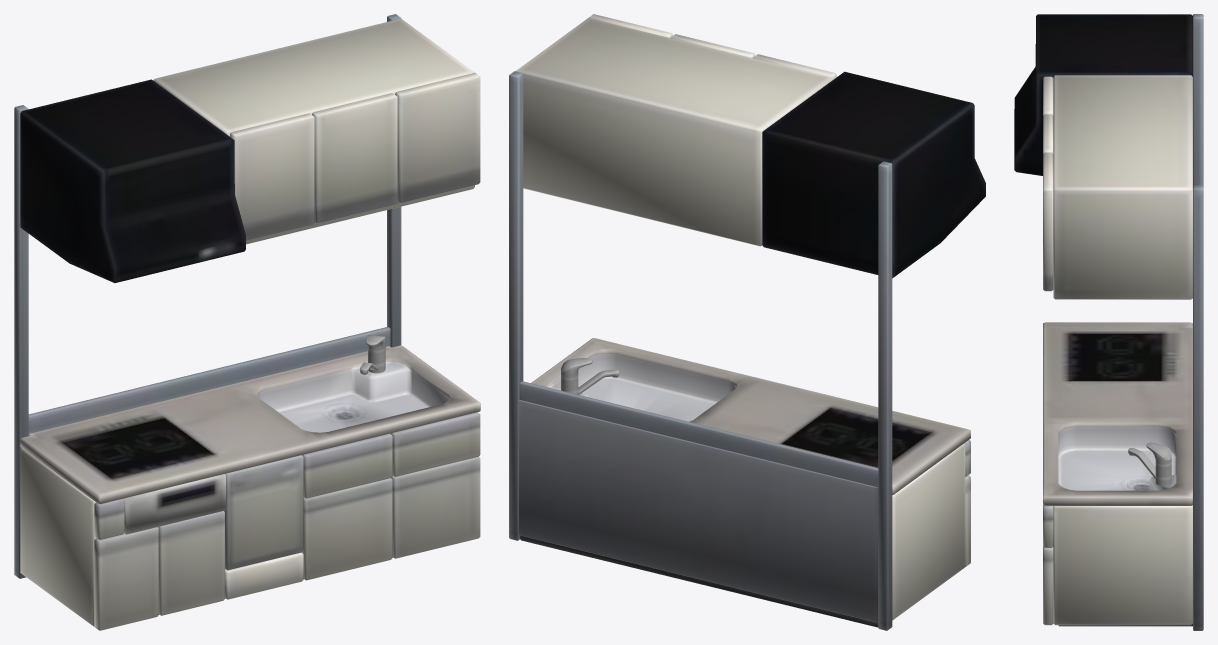
3 renders of one model, left to right at view 1: azimuth 30°, elevation 25°; view 2: azimuth 150°, elevation 25°; view 3: azimuth 270°, elevation 25°, orthographic. The views are drawn at different scales.
Size of the model in its own units: 19.72 by 23.1 by 8.96.
Materials: 1 (1 with a texture image).
